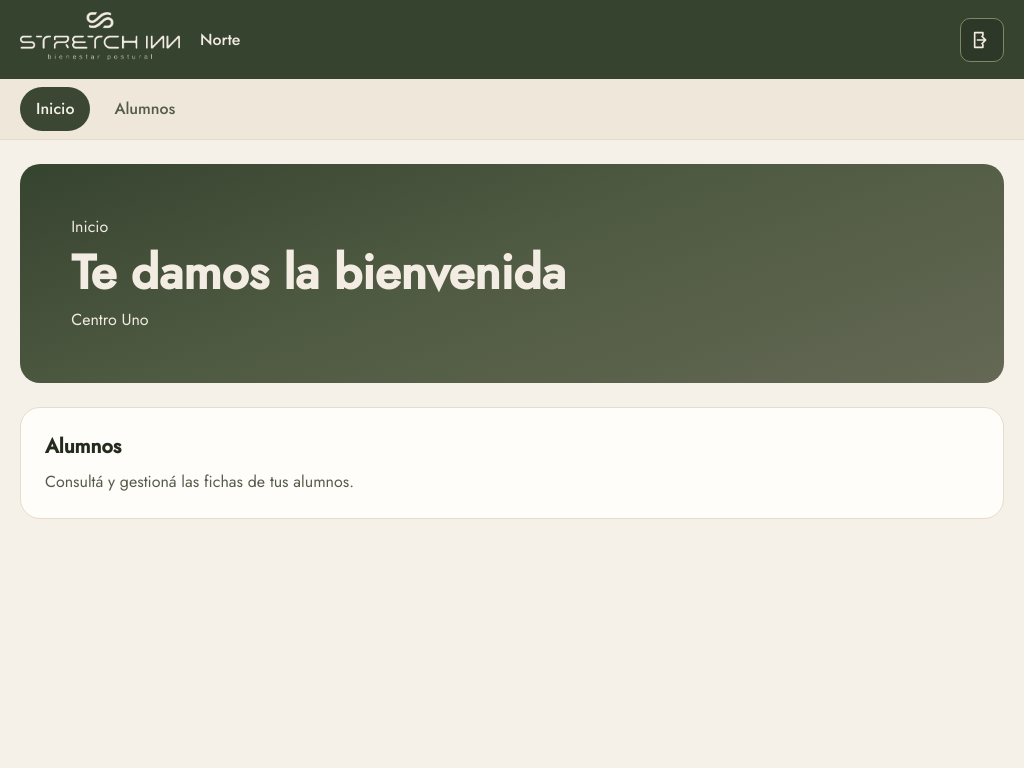
Test: antecedentes y patologías › con personas.ver-salud se ven, sin poder guardarlas
The image size is (1024, 768).
Click the link "Alumnos" at (145, 109), box [114, 97, 175, 120]
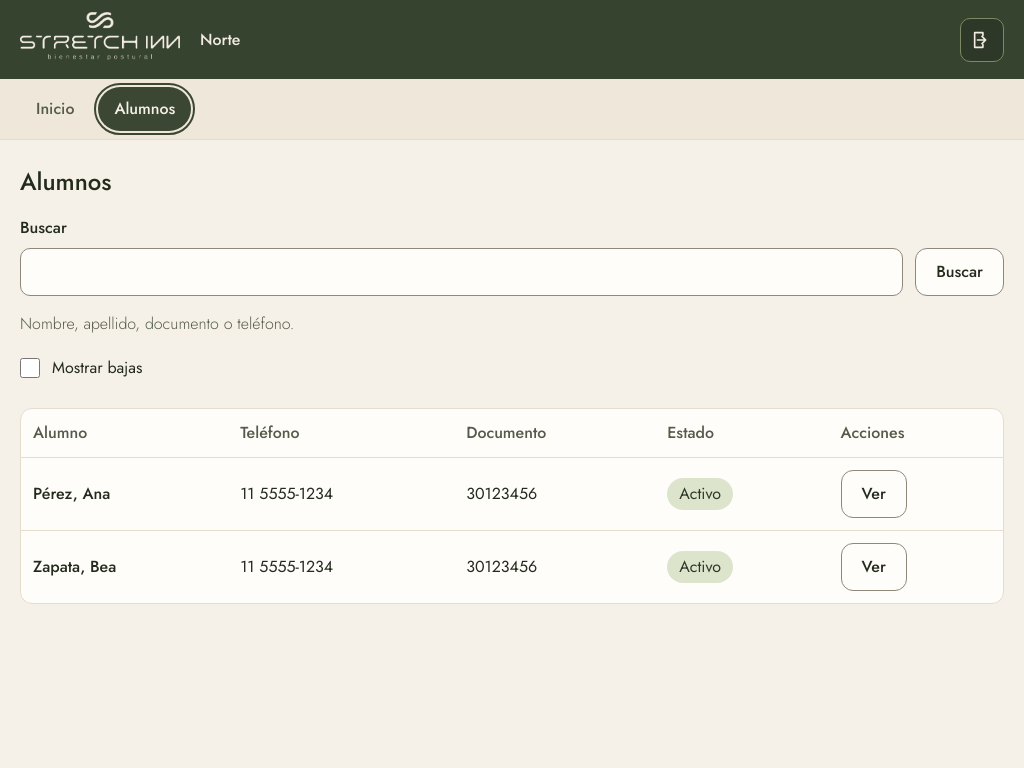
Check: the heading "Alumnos" is shown, box [20, 164, 111, 200]
Click the button "Ver" in the row of "Pérez" at (874, 494), box [841, 470, 907, 518]
(page scrolled)
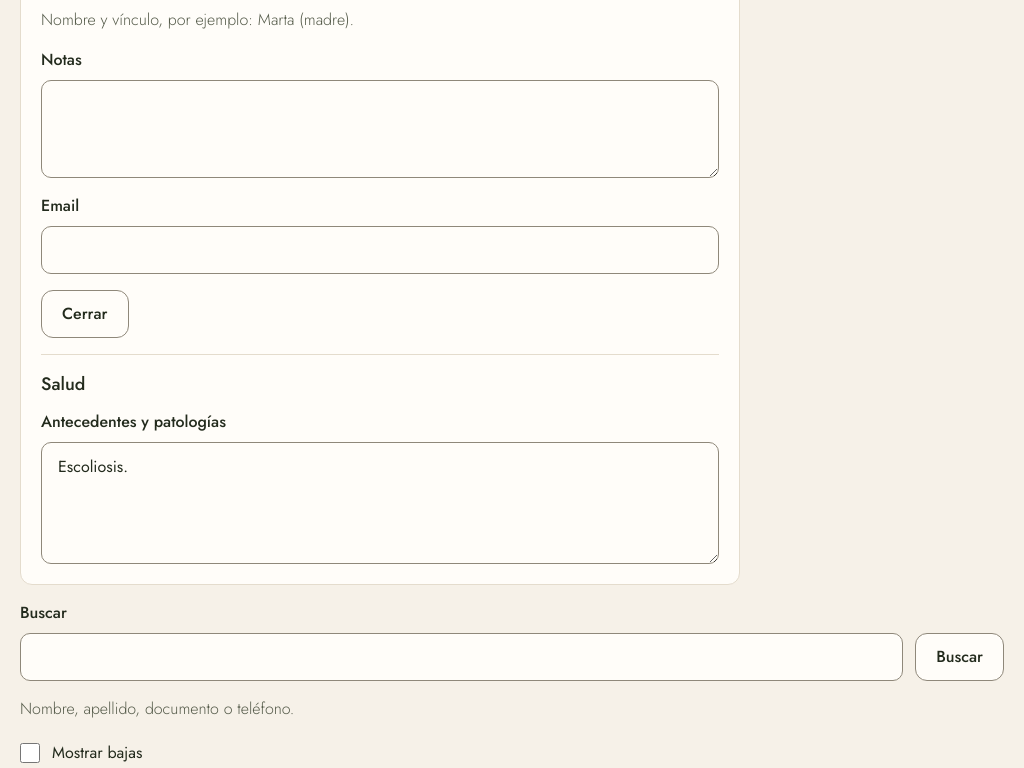
Check: the text box labelled "Antecedentes y patologías" holds "Escoliosis.", box [41, 442, 719, 564]
Check: the text box labelled "Antecedentes y patologías" is disabled, box [41, 442, 719, 564]
Check: the text "Antecedentes y patologías" is shown, box [41, 410, 226, 433]
